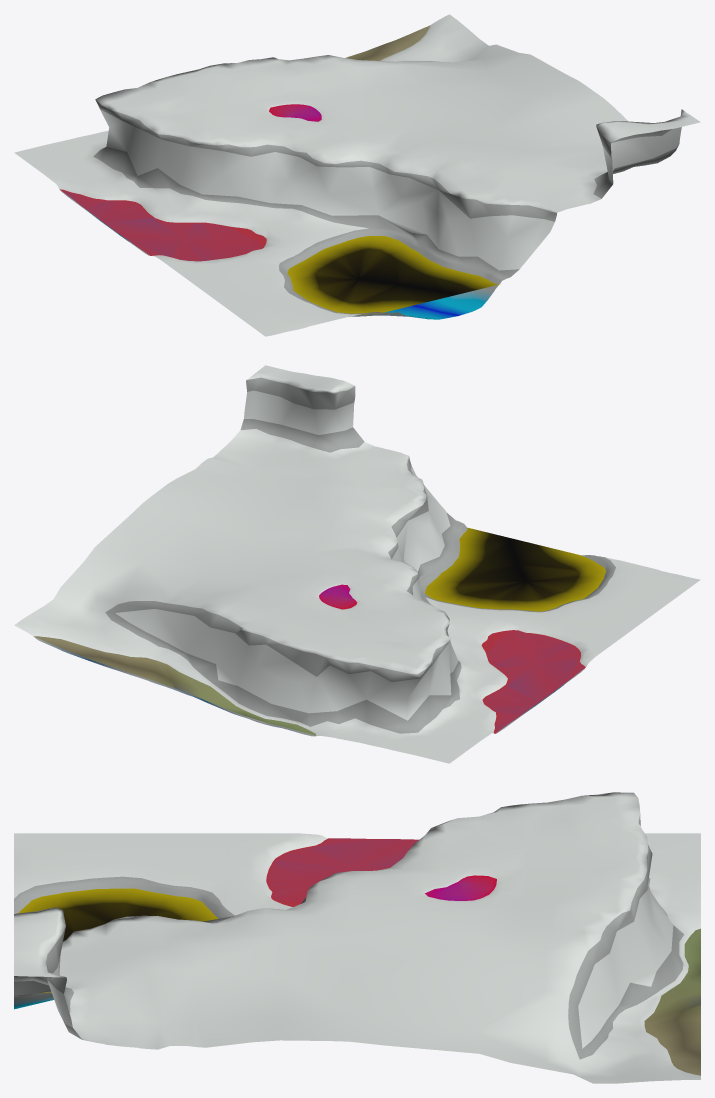
3 views of the same model, one above another, from view 1: azimuth 30°, elevation 25°; view 2: azimuth 150°, elevation 25°; view 3: azimuth 270°, elevation 25° (orthographic). The views are drawn at different scales.
Parts seen in each view (by area): view 1: G:\FFXIV-MapTools\exports\r2f1\bg\ex1\01_roc_r2\fld\r2f1\bgp (×8); view 2: G:\FFXIV-MapTools\exports\r2f1\bg\ex1\01_roc_r2\fld\r2f1\bgp (×8); view 3: G:\FFXIV-MapTools\exports\r2f1\bg\ex1\01_roc_r2\fld\r2f1\bgp (×7).
Boxes of the visible parts, x1,y1,x2,y2 form: G:\FFXIV-MapTools\exports\r2f1\bg\ex1\01_roc_r2\fld\r2f1\bgp (×8): [14, 14, 700, 336]; G:\FFXIV-MapTools\exports\r2f1\bg\ex1\01_roc_r2\fld\r2f1\bgp (×8): [14, 365, 700, 763]; G:\FFXIV-MapTools\exports\r2f1\bg\ex1\01_roc_r2\fld\r2f1\bgp (×7): [14, 792, 700, 1083].
Size of the model in its own units: 128 by 39.81 by 128.
